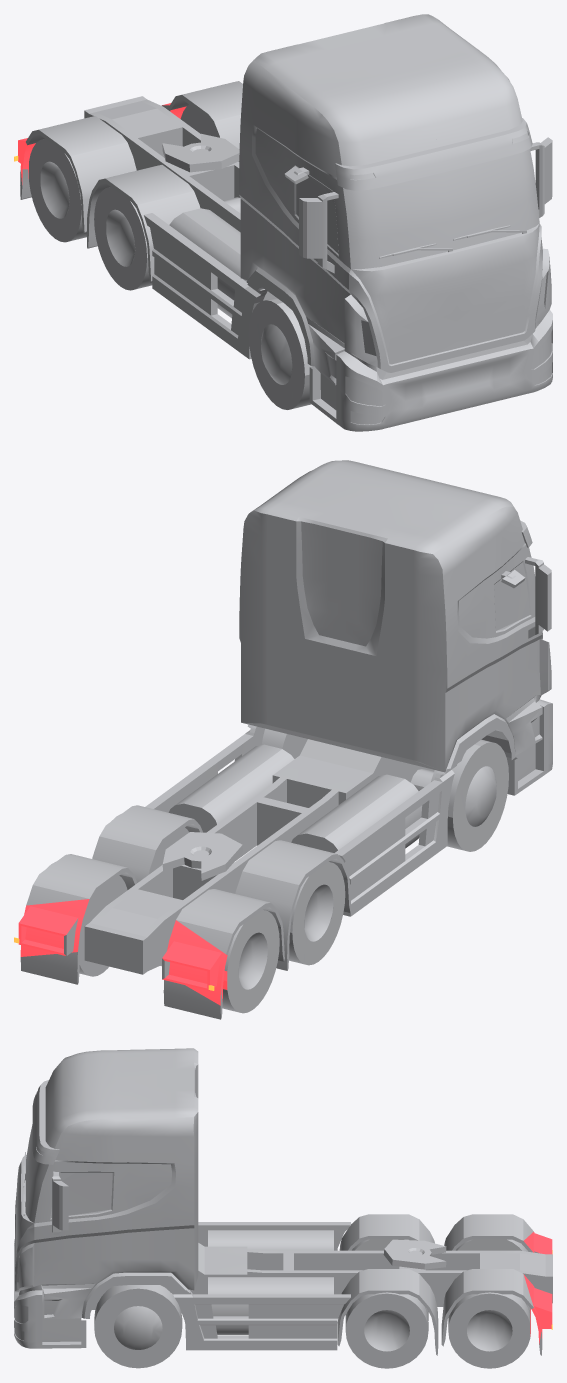
File: traffic_xcient.glb
3 renders of one model, top to bottom at view 1: azimuth 30°, elevation 25°; view 2: azimuth 150°, elevation 25°; view 3: azimuth 270°, elevation 25°, orthographic. The views are drawn at different scales.
Parts seen in each view (by area): view 1: Xcient; view 2: Xcient; view 3: Xcient.
Boxes of the visible parts, <box> form: Xcient: <box>18,14,552,431</box>; Xcient: <box>18,460,552,1019</box>; Xcient: <box>14,1048,552,1368</box>.
Size of the model in its own units: 3.96 by 4.89 by 9.5.
